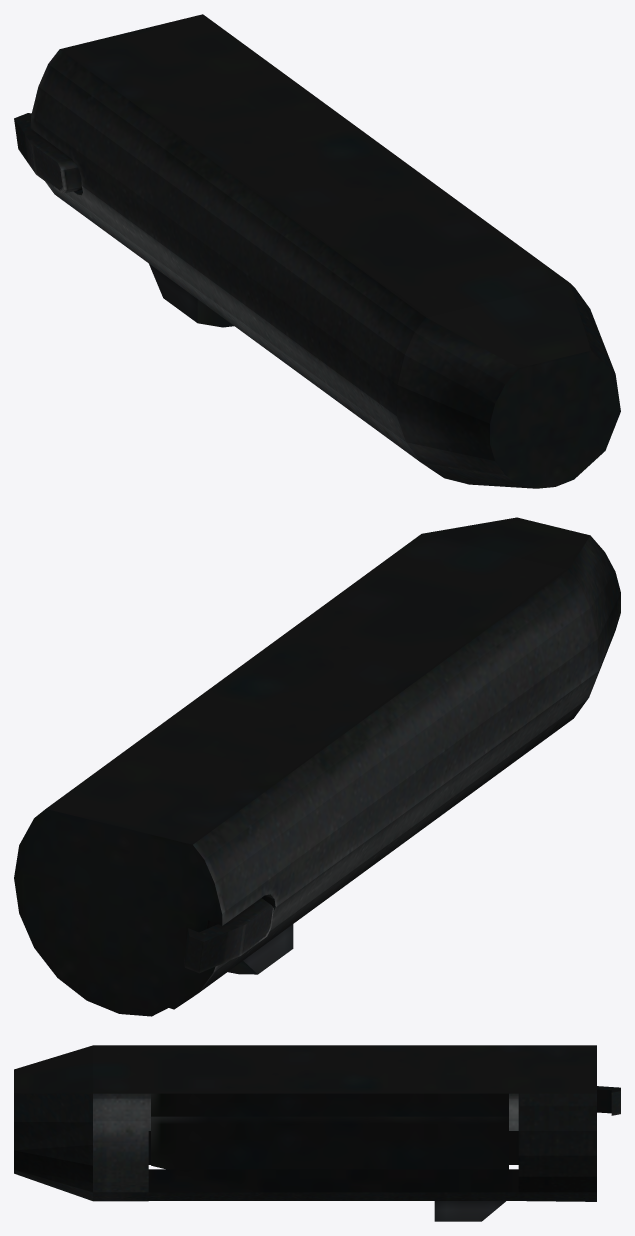
3 renders of one model, top to bottom at view 1: azimuth 30°, elevation 25°; view 2: azimuth 150°, elevation 25°; view 3: azimuth 270°, elevation 25°, orthographic. The views are drawn at different scales.
Parts seen in each view (by area): view 1: TW_54491c4f4bdc2db1078b4568_PZ_Import; view 2: TW_54491c4f4bdc2db1078b4568_PZ_Import; view 3: TW_54491c4f4bdc2db1078b4568_PZ_Import.
Boxes of the visible parts, <box> form: TW_54491c4f4bdc2db1078b4568_PZ_Import: <box>14,14,620,488</box>; TW_54491c4f4bdc2db1078b4568_PZ_Import: <box>14,517,620,1016</box>; TW_54491c4f4bdc2db1078b4568_PZ_Import: <box>14,1045,620,1221</box>.
Size of the model in its own units: 0.0154 by 0.0553 by 0.0143.
1 material, 1 textured.
